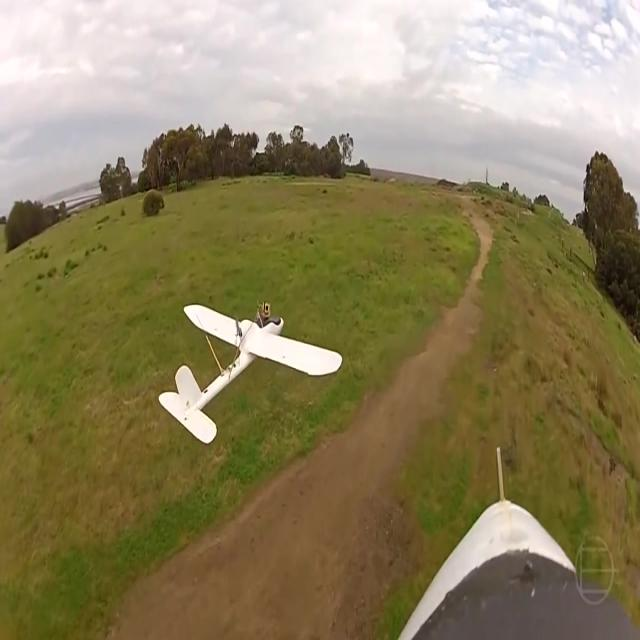iha: (158, 294, 342, 449)
